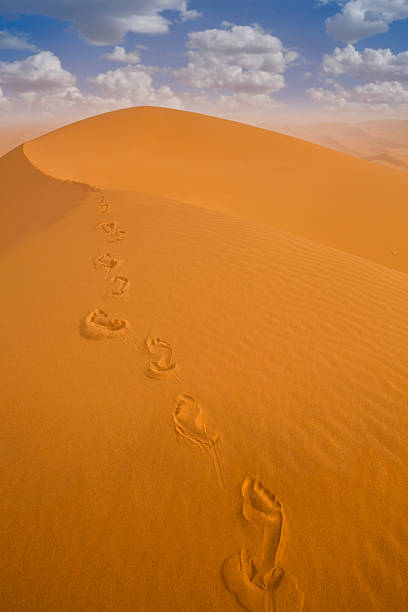human_foot_print: (222, 476, 303, 611), (173, 393, 224, 487), (241, 477, 282, 589), (80, 308, 138, 349), (81, 308, 128, 339), (145, 336, 177, 378), (96, 221, 126, 241), (93, 252, 121, 272), (108, 275, 129, 296), (96, 221, 116, 233), (110, 230, 126, 241), (98, 201, 109, 213)
